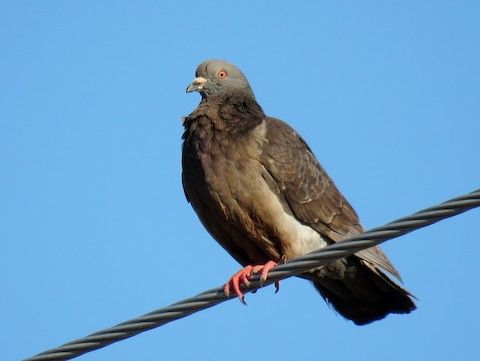pigeon: (169, 55, 435, 333)
